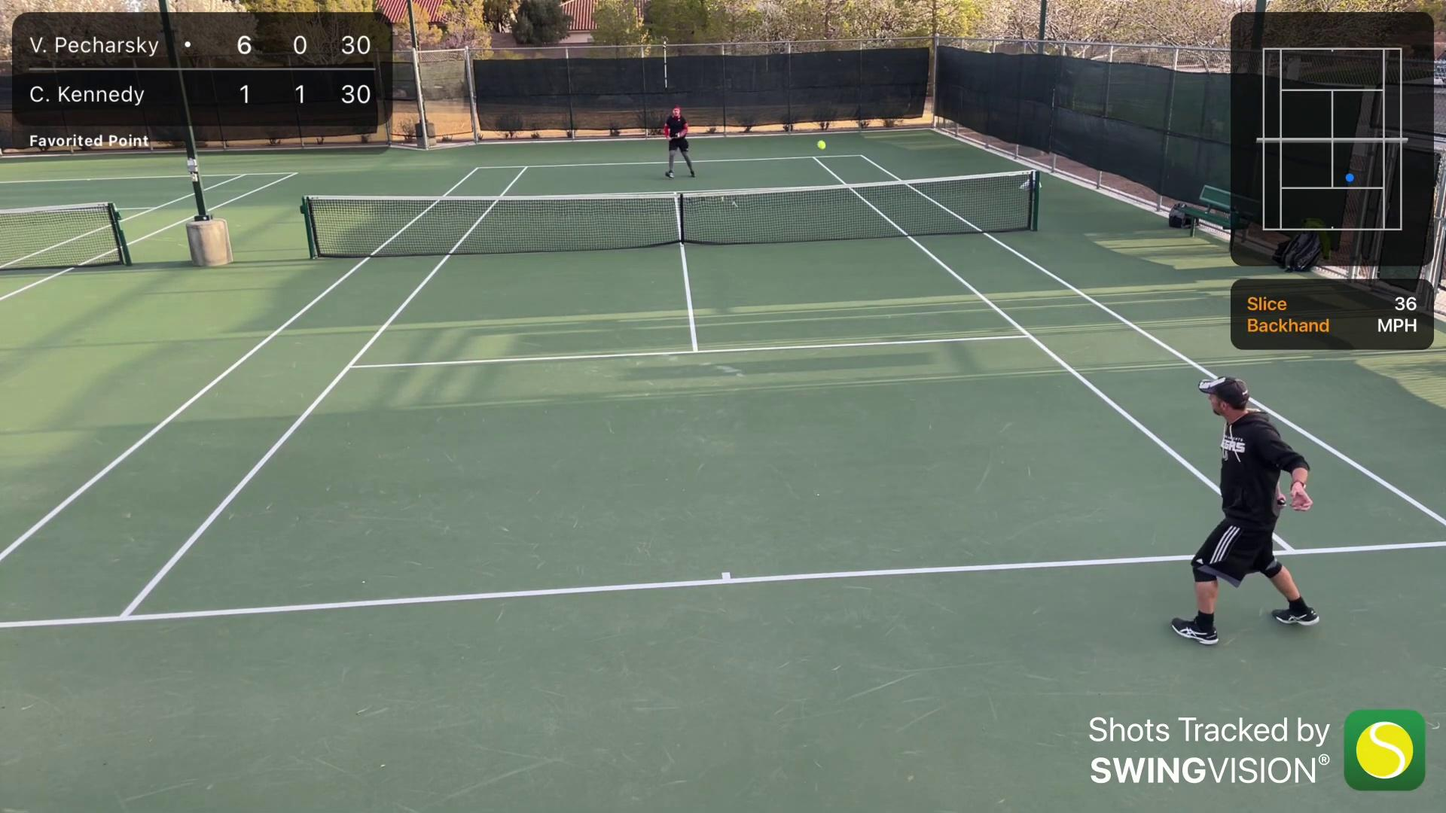ball: (815, 138, 828, 149)
